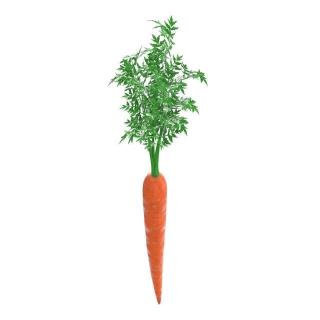carrot: (142, 163, 170, 311)
